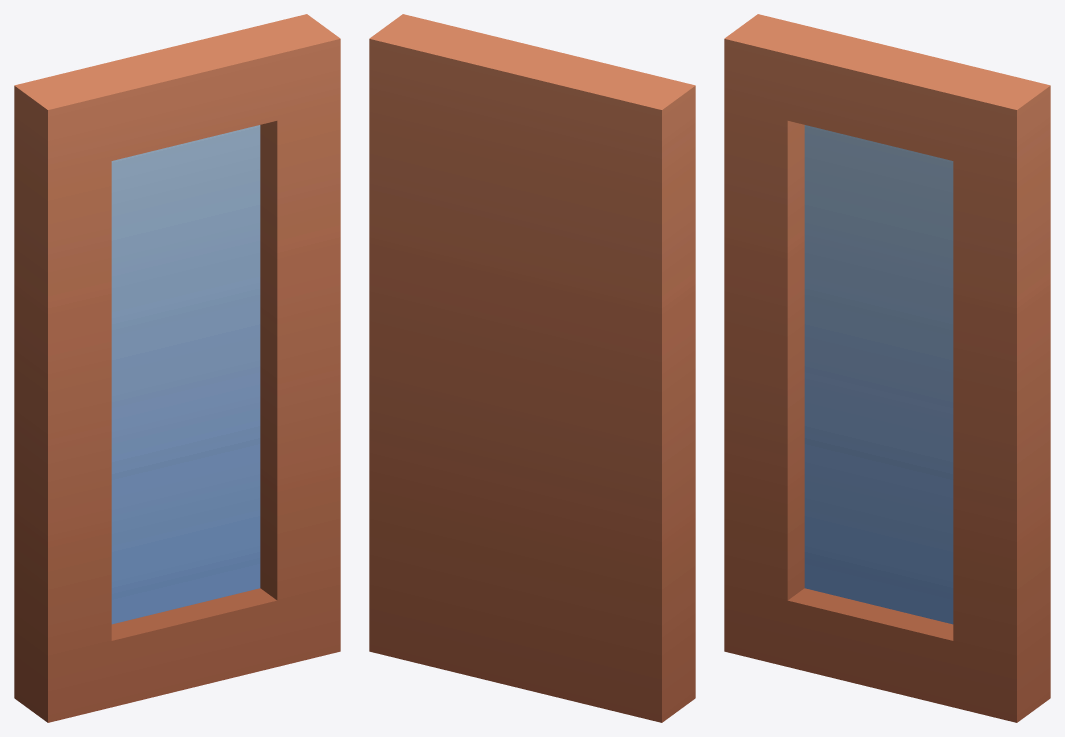
File: door-brown-glass.glb
3 views of the same model, side by side, from view 1: azimuth 30°, elevation 25°; view 2: azimuth 150°, elevation 25°; view 3: azimuth 330°, elevation 25° (orthographic).
Visible parts, largest first — view 1: door-brown-glass; view 2: door-brown-glass; view 3: door-brown-glass.
Part boxes in pixels (bbox=[...]): door-brown-glass: bbox=[14, 14, 340, 722]; door-brown-glass: bbox=[369, 14, 695, 722]; door-brown-glass: bbox=[724, 14, 1050, 722].
Size of the model in its own units: 0.25 by 0.5 by 0.05.
Materials: 1 (1 with a texture image).
